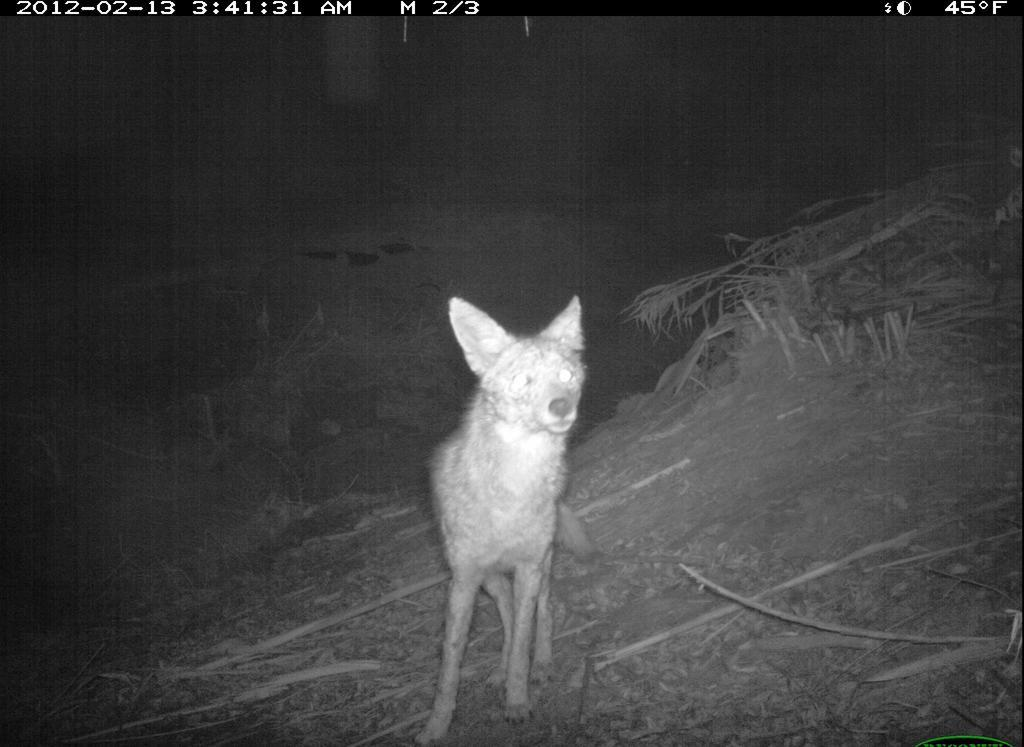coyote: (406, 295, 593, 740)
